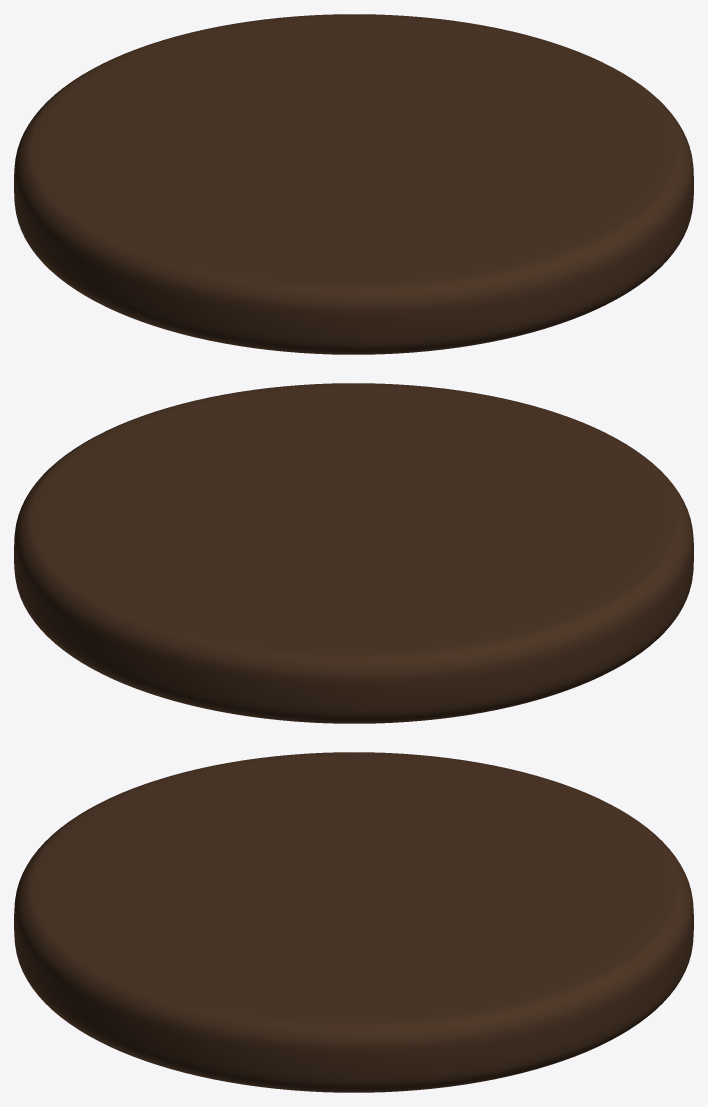
Rendered from cakeLayer.glb.
3 views of the same model, one above another, from view 1: azimuth 30°, elevation 25°; view 2: azimuth 150°, elevation 25°; view 3: azimuth 270°, elevation 25° (orthographic).
Parts seen in each view (by area): view 1: Cylinder; view 2: Cylinder; view 3: Cylinder.
Part boxes in pixels (box(x1,y1,x2,y2)): Cylinder: box(14, 14, 693, 354); Cylinder: box(14, 383, 693, 723); Cylinder: box(14, 752, 693, 1092).
Bounding box in the file's own units: 1.99 × 0.226 × 1.99.
